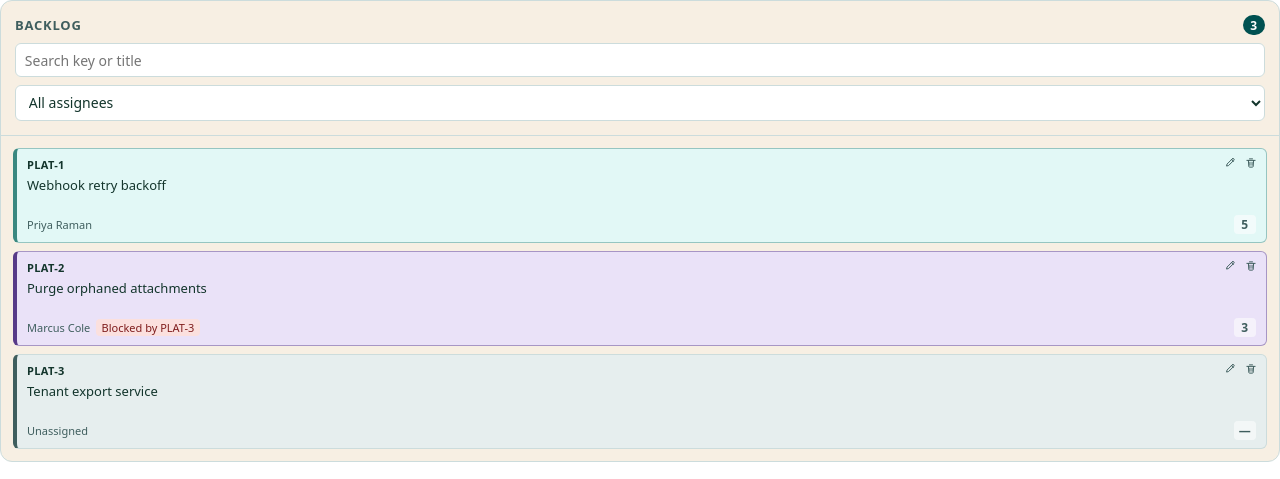
Test case: Backlog › filters by assignee and by unassigned
Select "Priya Raman" in the dropdown named "Filter by assignee" at (640, 103), box [15,85,1265,121]
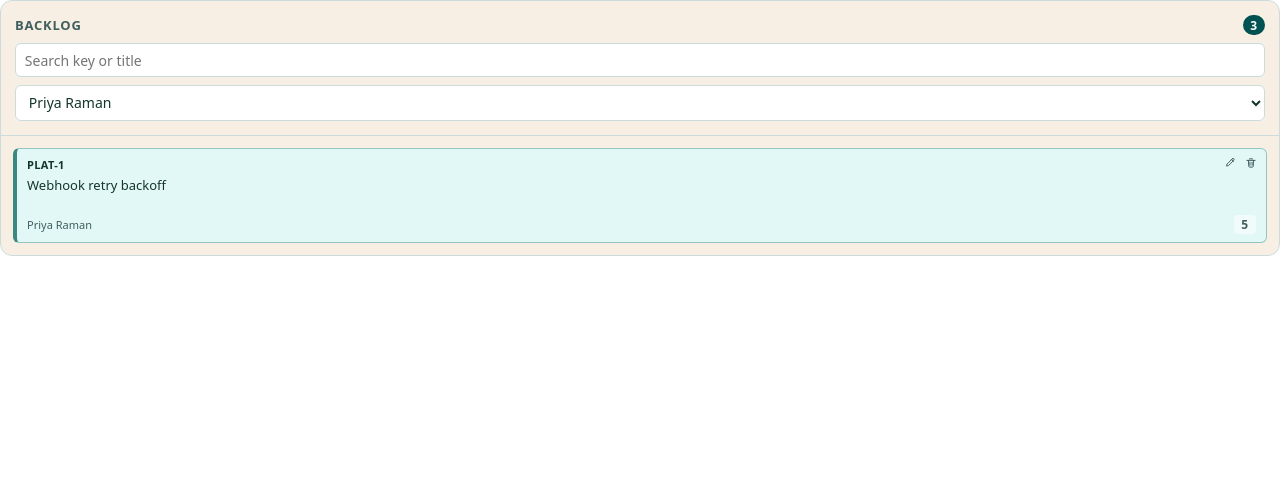
Check: the text "Webhook retry backoff" is shown, box [27,176,166,194]
Check: the number of list items is 1, box [13,148,1267,243]
Select "Unassigned" in the dropdown named "Filter by assignee" at (640, 103), box [15,85,1265,121]
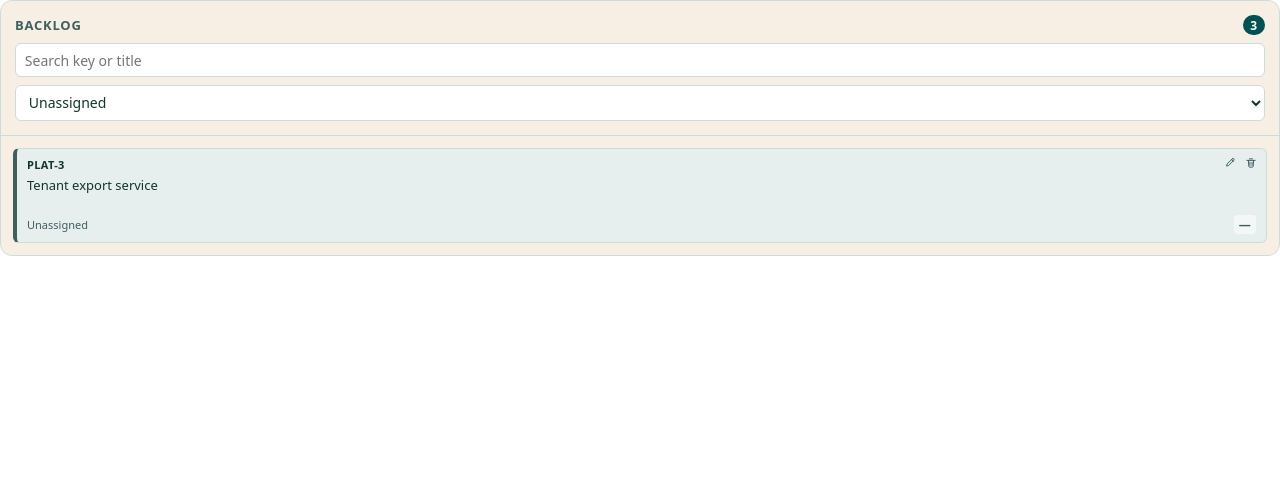
Check: the number of list items is 1, box [13,148,1267,243]
Check: the text "Tenant export service" is shown, box [27,176,158,194]
